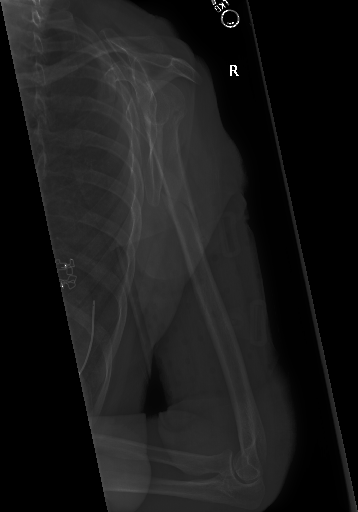fracture: (165, 183, 209, 284)
